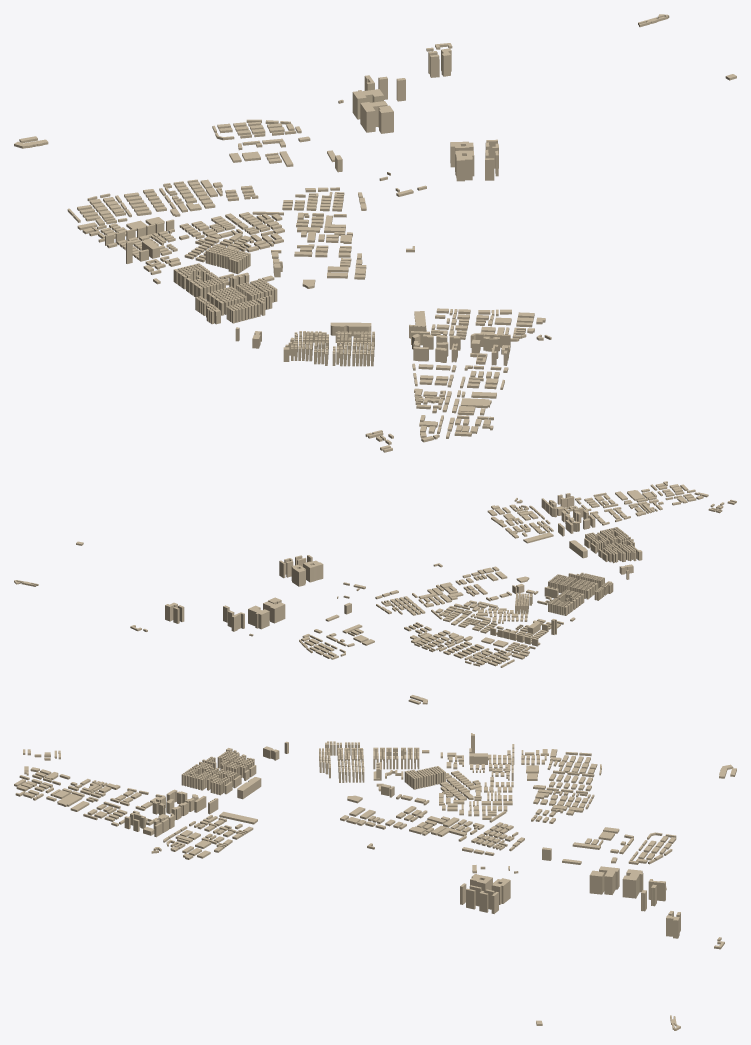
File: overview-estimated--5_4.glb
3 views of the same model, one above another, from view 1: azimuth 30°, elevation 25°; view 2: azimuth 150°, elevation 25°; view 3: azimuth 270°, elevation 25° (orthographic). The views are drawn at different scales.
Bounding box in the file's own units: 3677 × 112 × 4012.
